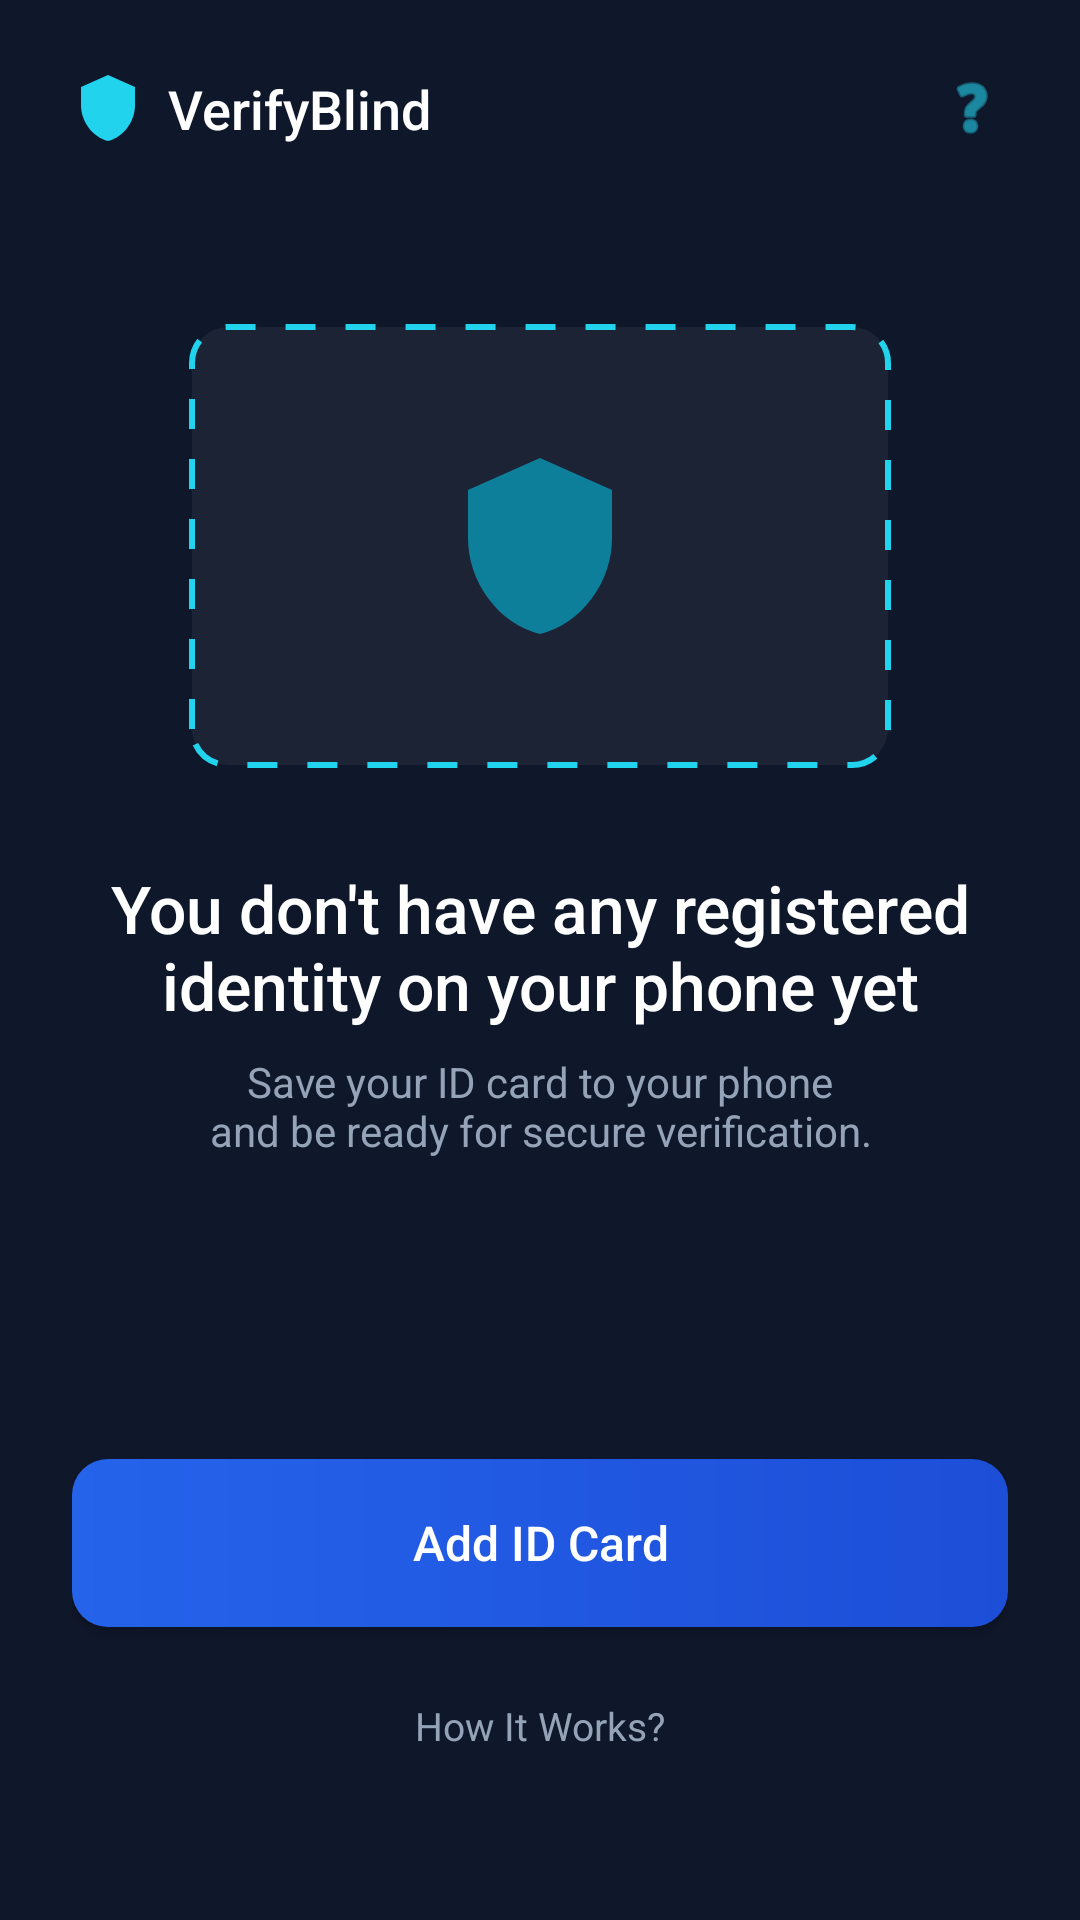

Named icons in this screenshot (1080px x 1920px) and their centers, (x,y):
help: (972,108)
shield: (108,108), (540,546)
